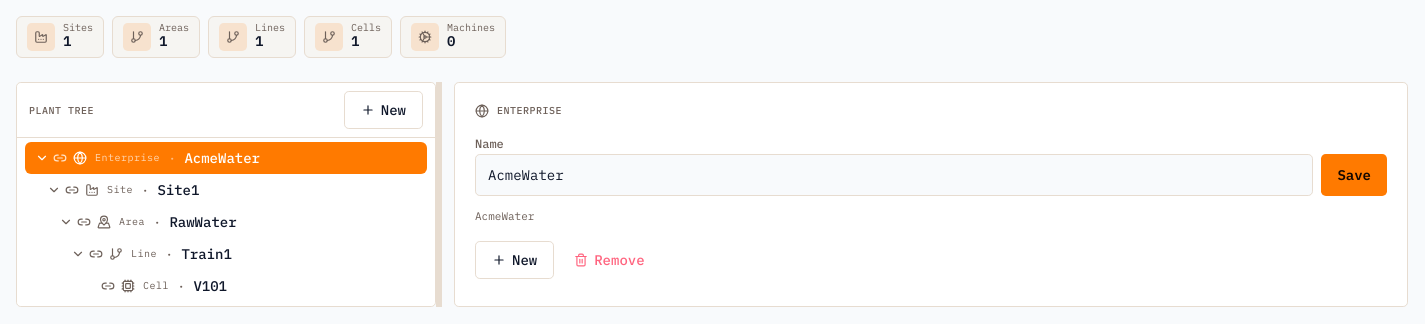
Scenario: the plant hierarchy editor › offers Line, Cell, and Machine under an Area from both New menus
The image size is (1425, 324).
Click the button with aria-label "Area RawWater".
click(203, 222)  # box [93,206,427,238]
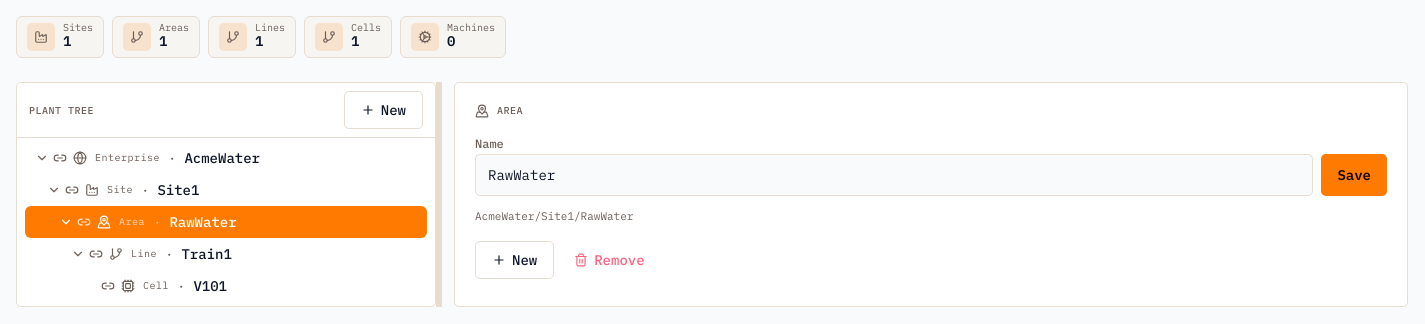
Click the button "New" in the row of "Plant tree".
click(383, 110)  # box [344,91,423,129]
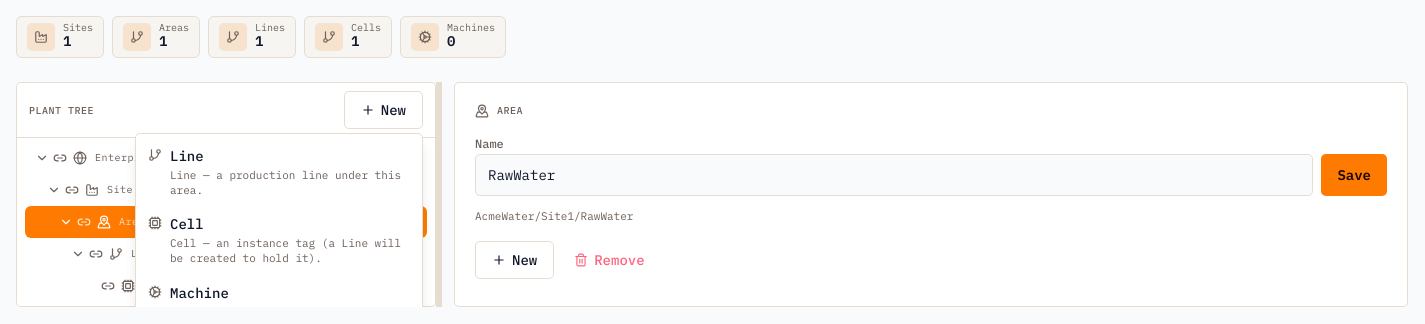
Expected: the menu item "Line Line — a production line under this area." is shown, [136,138,422,206]
